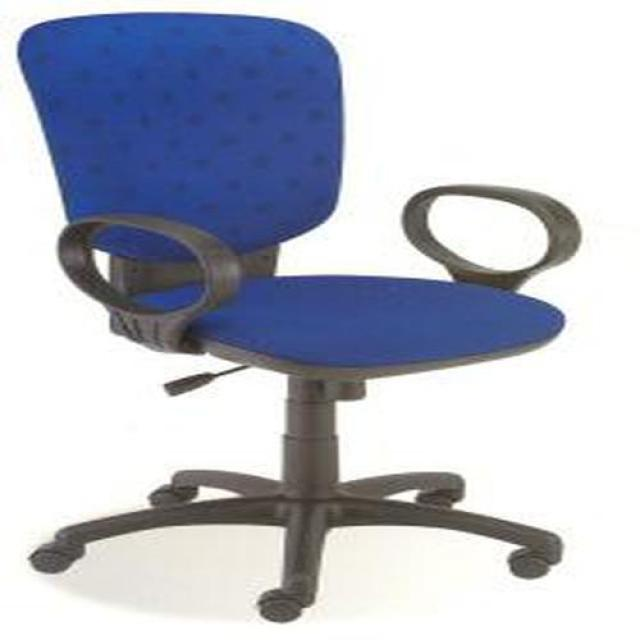swivelchair: (18, 13, 585, 626)
